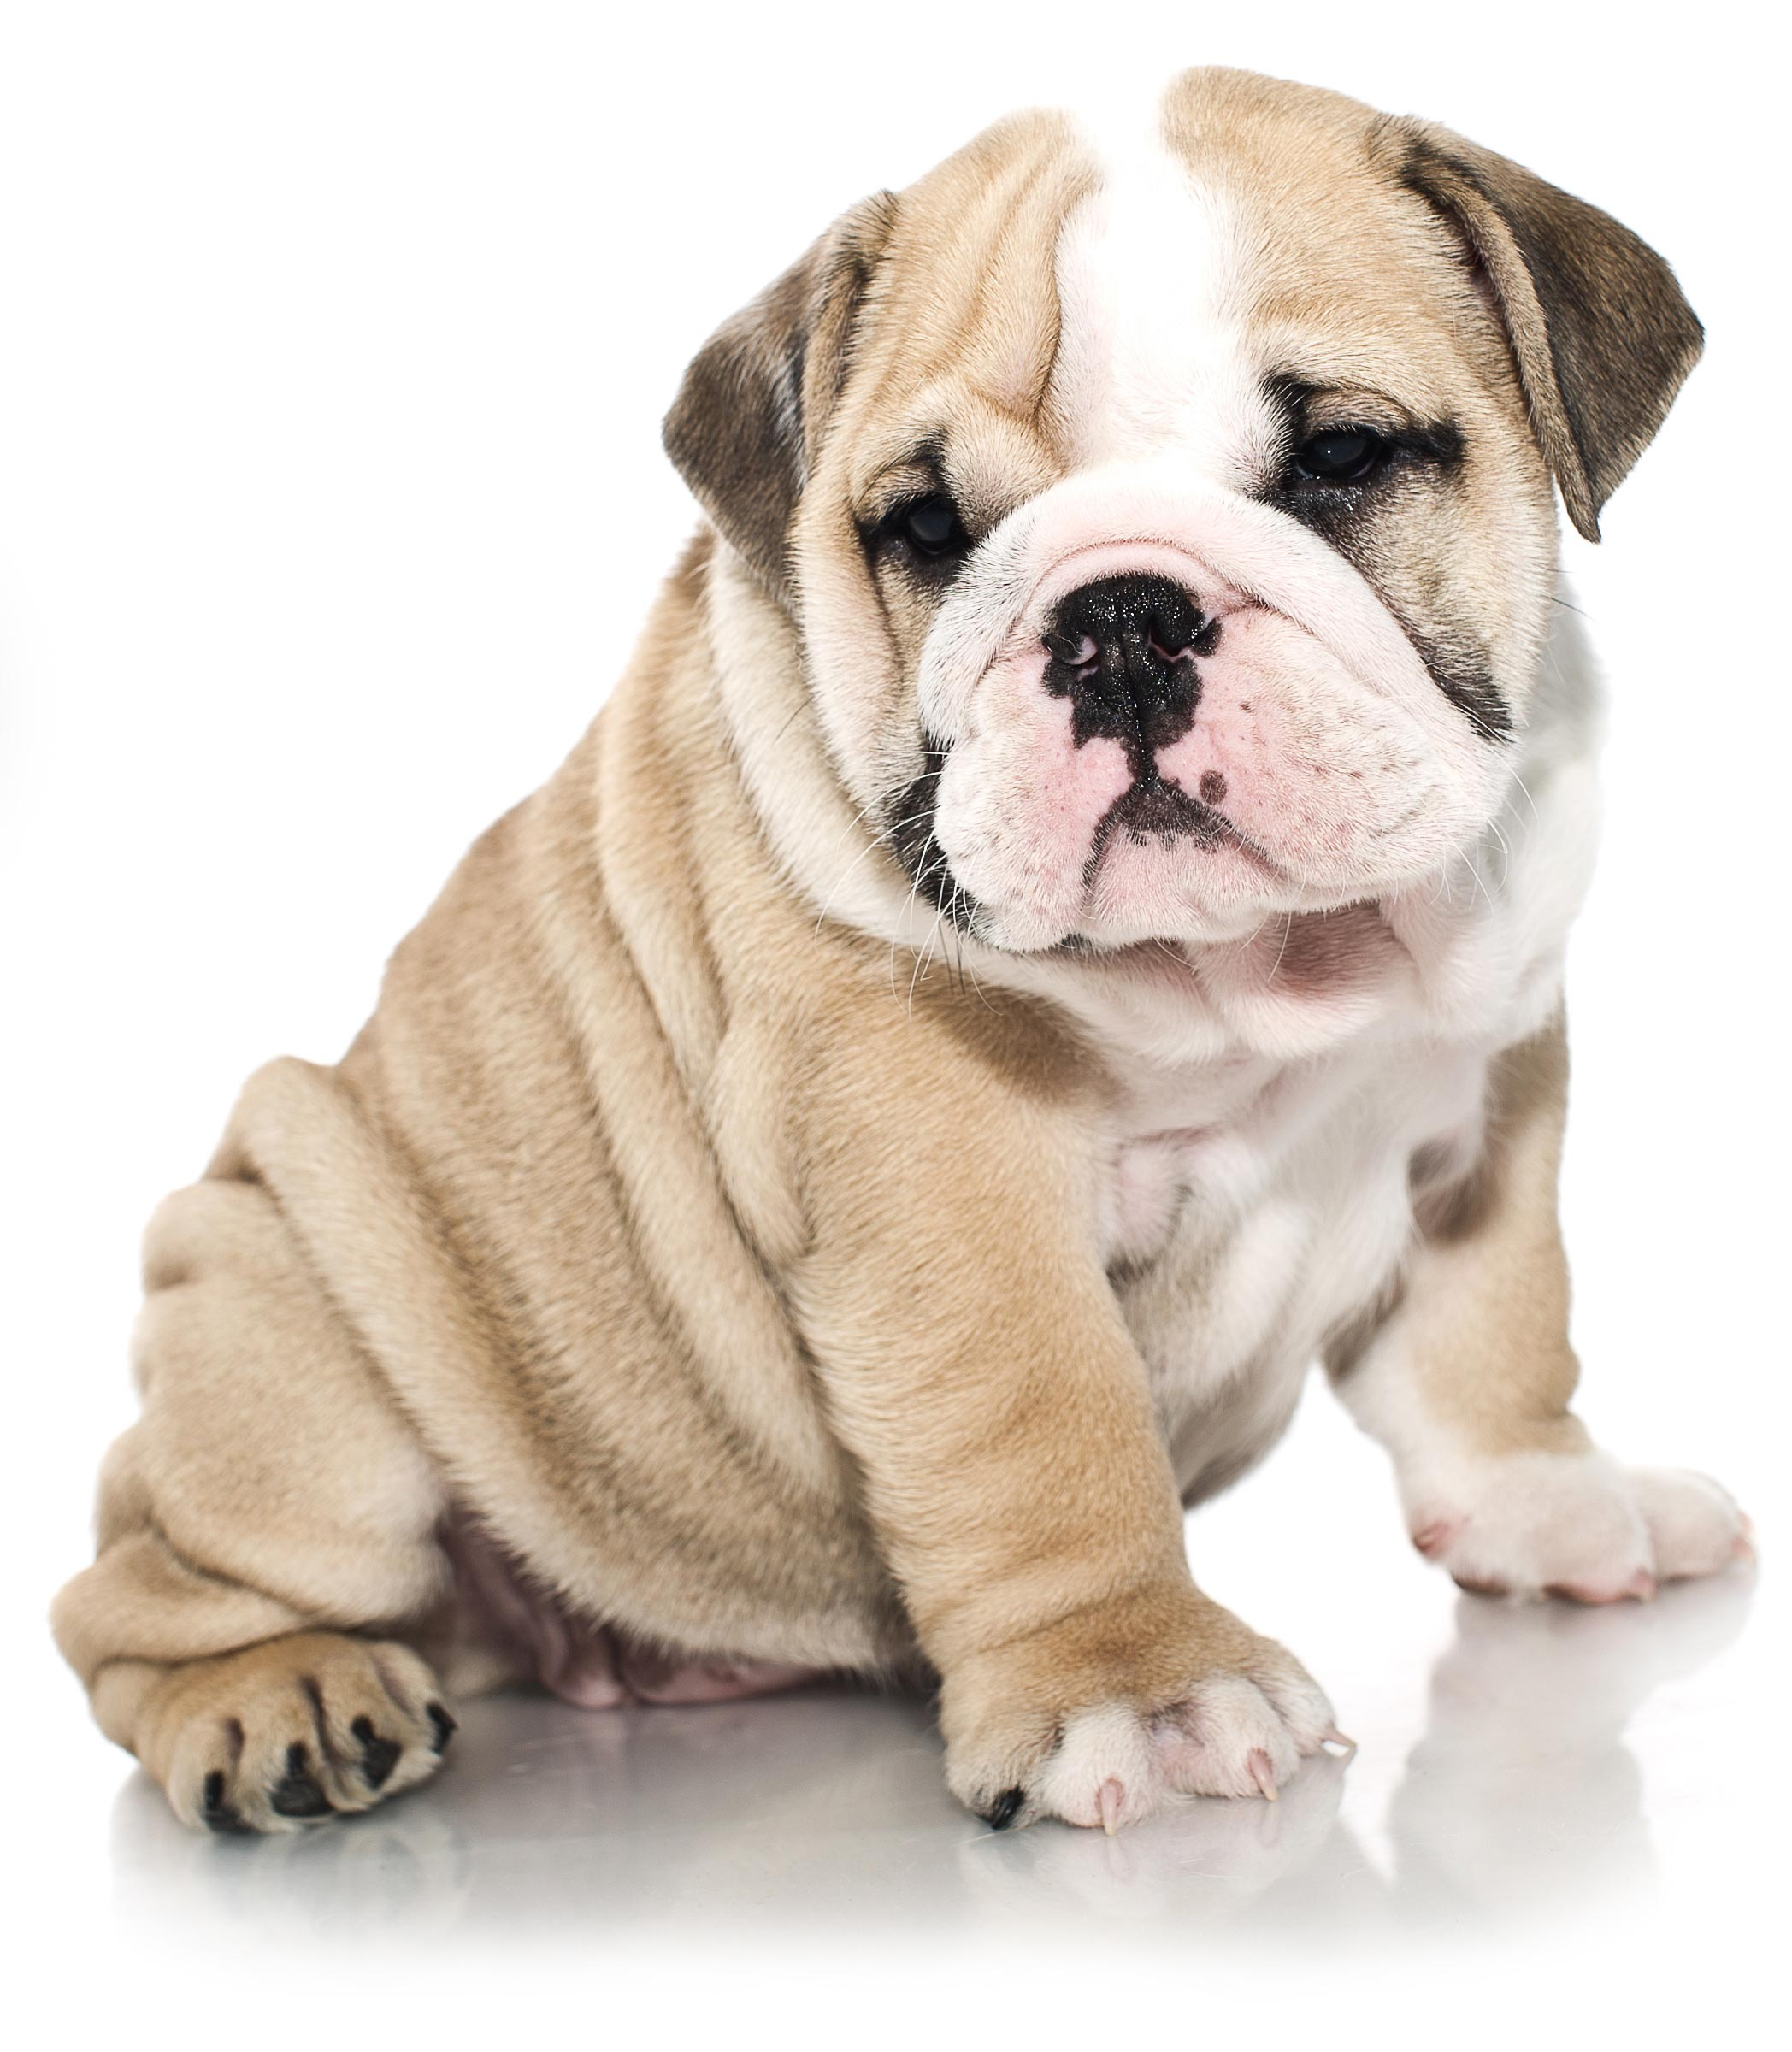dog: (58, 75, 1754, 1844)
